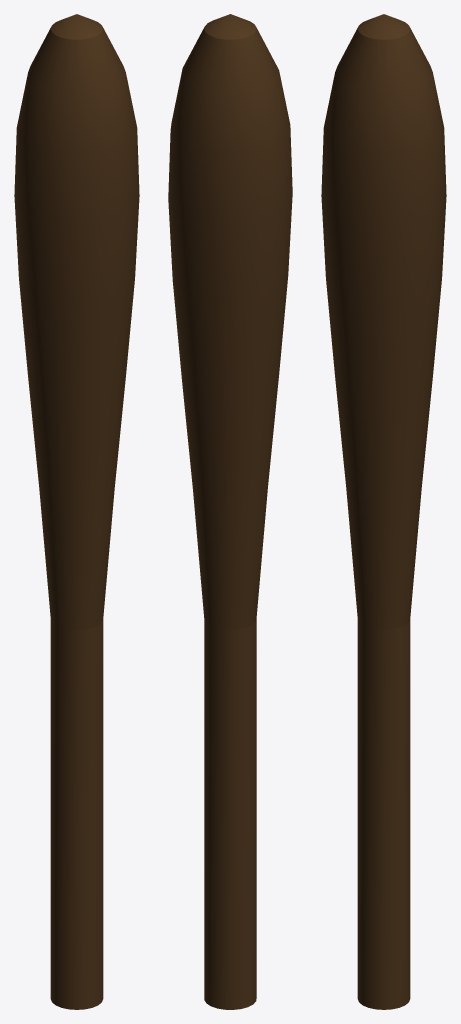
File: Baseball Bat.glb
The picture shows the model from 3 angles, left to right: view 1: azimuth 90°, elevation 25°; view 2: azimuth 150°, elevation 25°; view 3: azimuth 270°, elevation 25°; orthographic projection.
Parts seen in each view (by area): view 1: ClubHead (×2), BatArm; view 2: ClubHead (×2), BatArm; view 3: ClubHead (×2), BatArm.
Part boxes in pixels (bbox=[...]): ClubHead (×2): bbox=[14, 14, 139, 629]; BatArm: bbox=[50, 619, 103, 1009]; ClubHead (×2): bbox=[168, 14, 292, 629]; BatArm: bbox=[204, 619, 256, 1009]; ClubHead (×2): bbox=[321, 14, 446, 629]; BatArm: bbox=[357, 619, 410, 1009].
Bounding box in the file's own units: 0.0999 × 0.868 × 0.0999.
